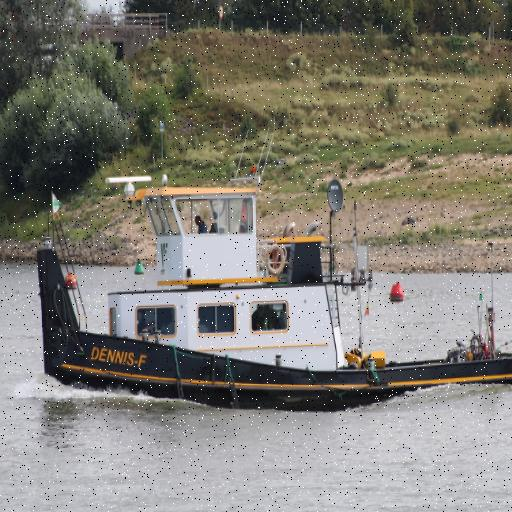tugboat: (32, 124, 512, 423)
